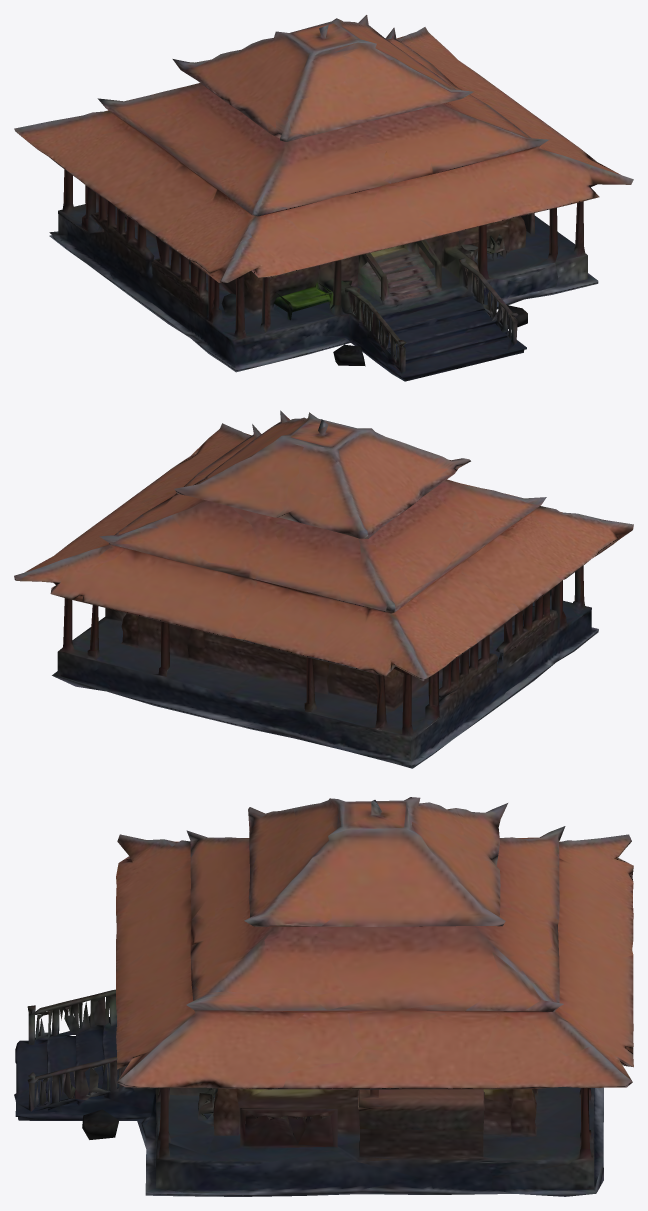
Rendered from rumah_bhagawan.glb.
3 views of the same model, one above another, from view 1: azimuth 30°, elevation 25°; view 2: azimuth 150°, elevation 25°; view 3: azimuth 270°, elevation 25° (orthographic). The views are drawn at different scales.
Visible parts, largest first — view 1: tripo_node_900529af-2d0c-4f46-9b9a-b20896b5082d; view 2: tripo_node_900529af-2d0c-4f46-9b9a-b20896b5082d; view 3: tripo_node_900529af-2d0c-4f46-9b9a-b20896b5082d.
Part boxes in pixels (x1,y1,x2,y2): tripo_node_900529af-2d0c-4f46-9b9a-b20896b5082d: [14, 15, 633, 381]; tripo_node_900529af-2d0c-4f46-9b9a-b20896b5082d: [14, 410, 633, 768]; tripo_node_900529af-2d0c-4f46-9b9a-b20896b5082d: [14, 797, 633, 1196].
Size of the model in its own units: 0.9446 by 0.514 by 1.
1 material, 1 textured.
